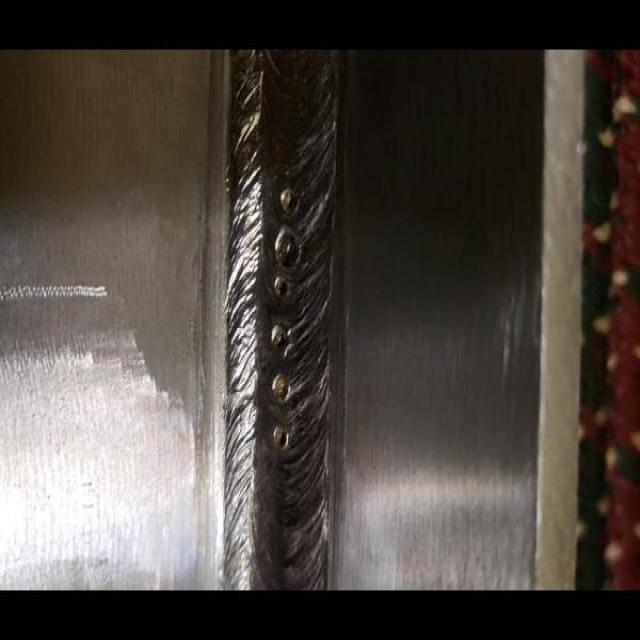Welding Line: (231, 59, 328, 586)
Workpiece: (3, 49, 577, 588)
porosity: (270, 190, 300, 450)
